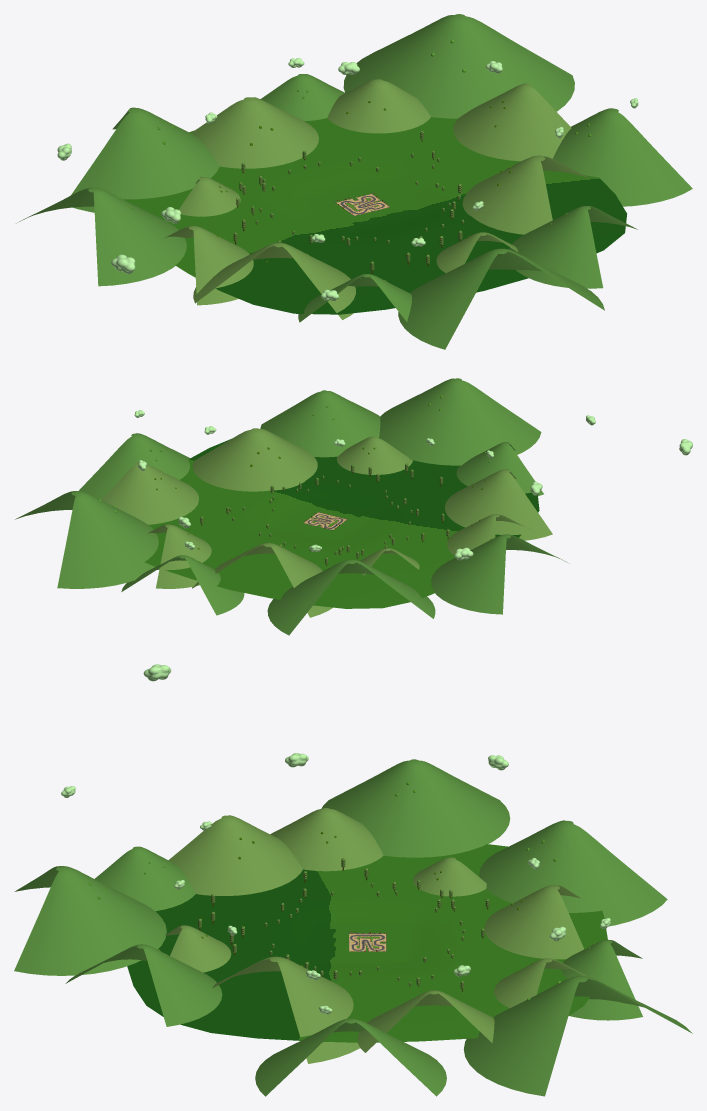
The model's file is track-transformed.glb.
3 renders of one model, top to bottom at view 1: azimuth 30°, elevation 25°; view 2: azimuth 150°, elevation 25°; view 3: azimuth 270°, elevation 25°, orthographic. The views are drawn at different scales.
Parts seen in each view (by area): view 1: Object_9; view 2: Object_9; view 3: Object_9.
Boxes of the visible parts, box(x1,y1,x2,y2) form: Object_9: box(16, 14, 692, 349); Object_9: box(15, 378, 692, 635); Object_9: box(14, 664, 692, 1096).
Bounding box in the file's own units: 82154 × 14928 × 73549.
Materials: 11 (10 with a texture image).
